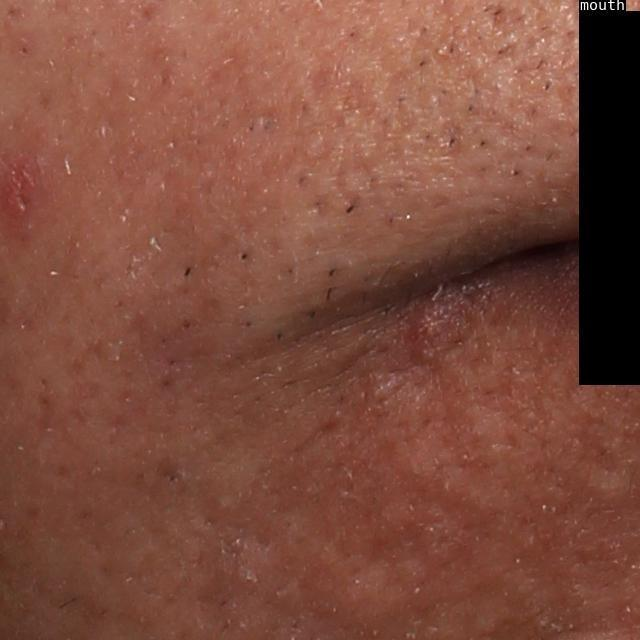hypertrophic_scar: (384, 398, 547, 539), (282, 548, 413, 632), (580, 470, 630, 499)
